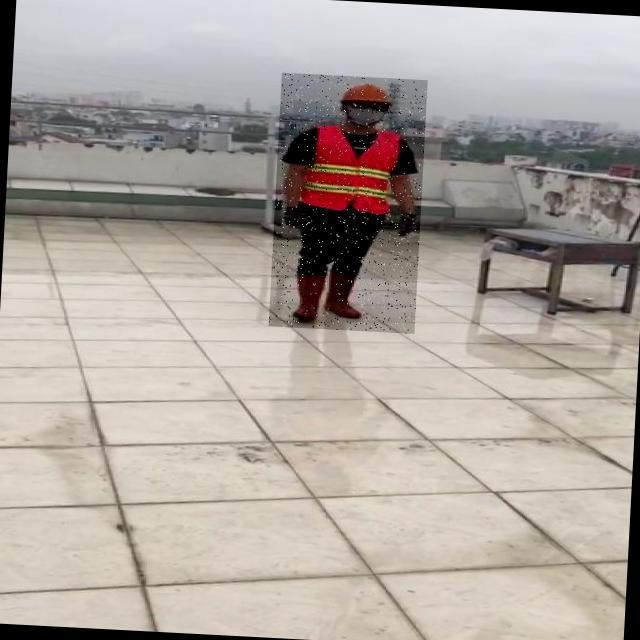Helmet: (338, 81, 396, 106)
Human: (269, 73, 428, 334)
Safety Boot: (326, 271, 369, 320), (292, 273, 324, 323)
Safety Vest: (304, 123, 402, 216)
